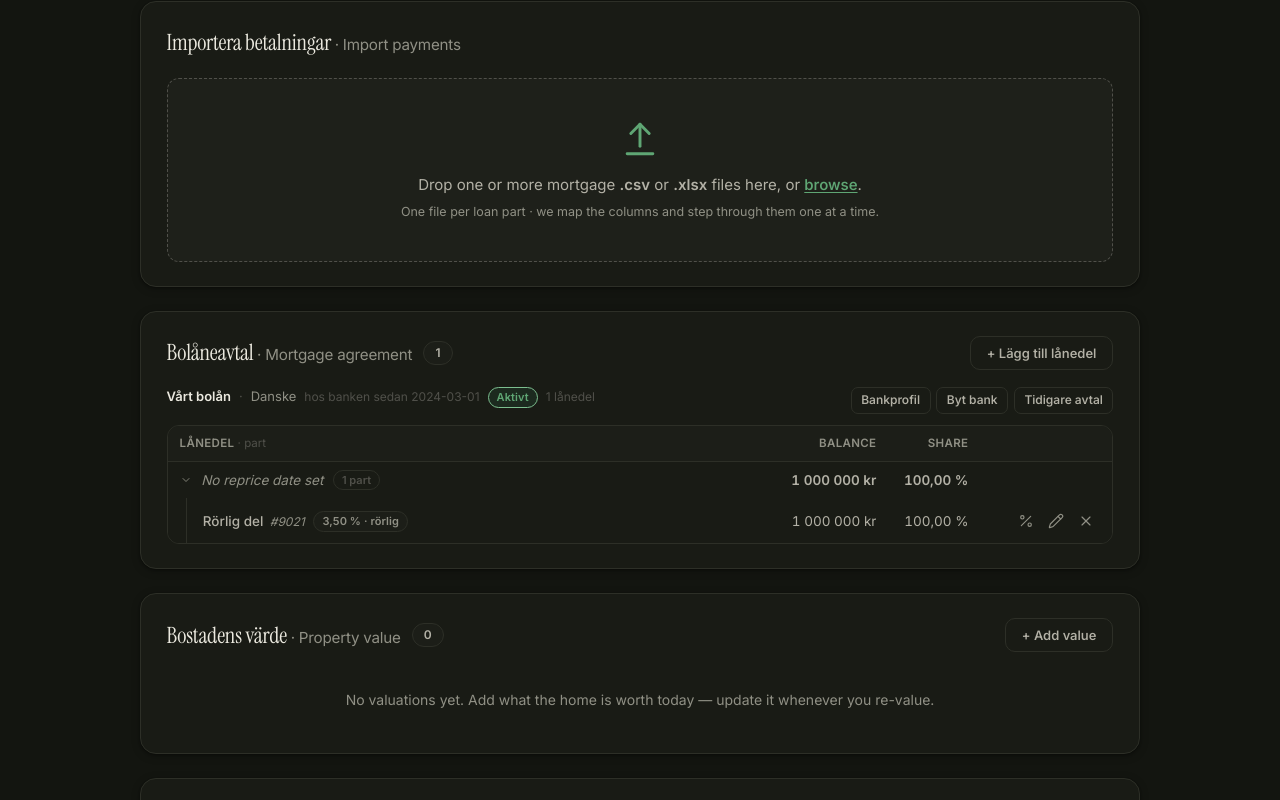
Test: Bolanekoll — change-bank wizard (plan 109c Stage 2) › never offers the active agreement’s bank nor its catalogue row, but keeps a different catalogue bank
(page scrolled)
Click the button "Byt bank" at (972, 400), box [936,387,1008,414]
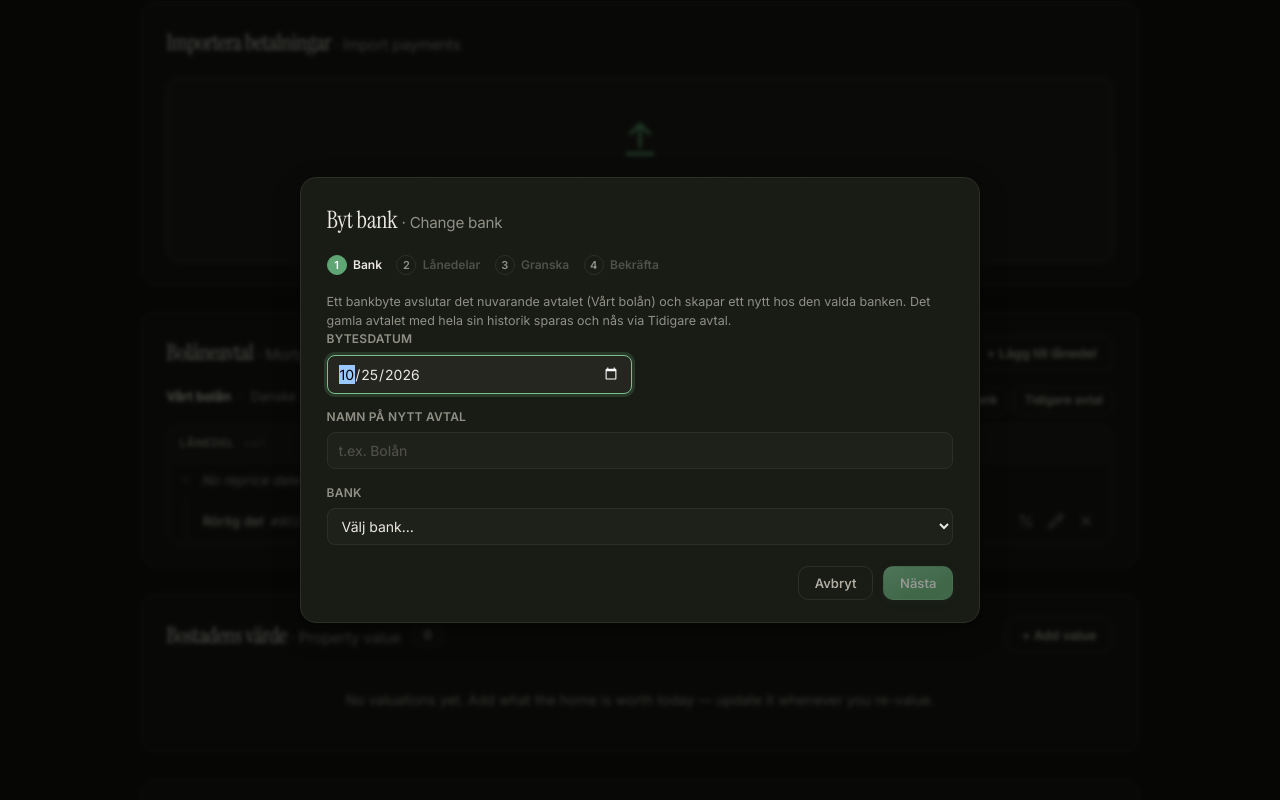
expect the dropdown shows "Välj bank…": met, box [327,508,953,545]
